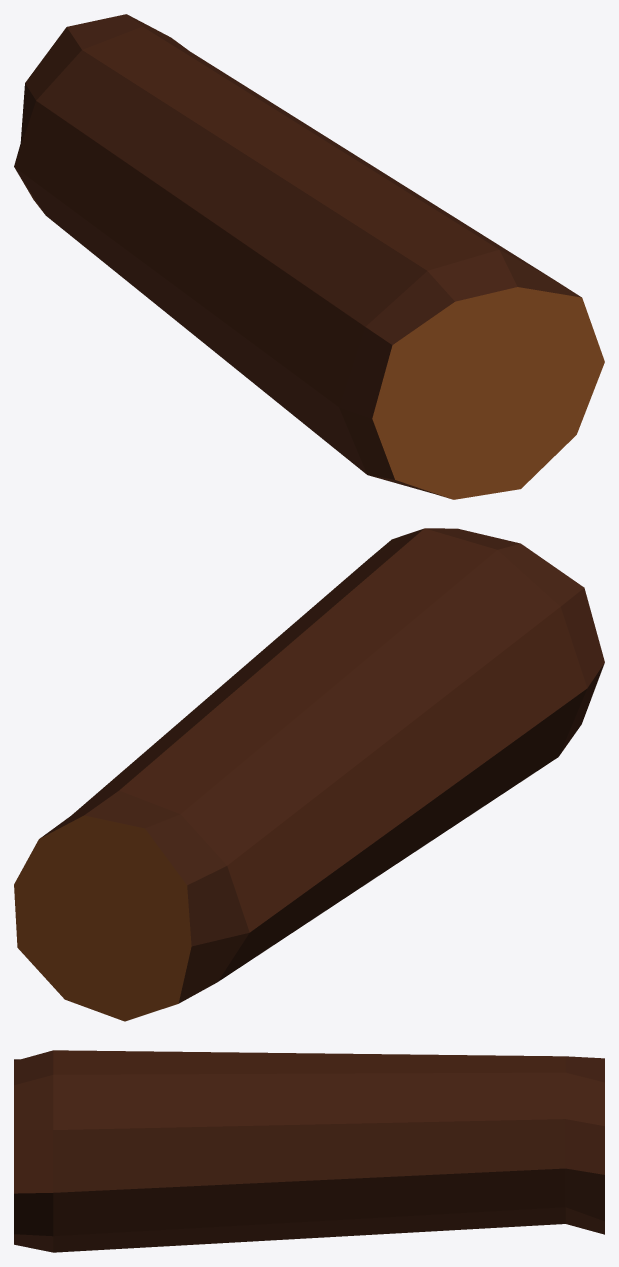
Rendered from N07_Log.fbx.
3 renders of one model, top to bottom at view 1: azimuth 30°, elevation 25°; view 2: azimuth 150°, elevation 25°; view 3: azimuth 270°, elevation 25°, orthographic. The views are drawn at different scales.
Parts seen in each view (by area): view 1: N07_Log; view 2: N07_Log; view 3: N07_Log.
Boxes of the visible parts, left/top/right/bottom form: N07_Log: left=14, top=14, right=604, bottom=499; N07_Log: left=14, top=528, right=604, bottom=1021; N07_Log: left=14, top=1050, right=604, bottom=1252.
Bounding box in the file's own units: 0.5675 × 0.4994 × 1.5.
Materials: 2 (2 with a texture image).
